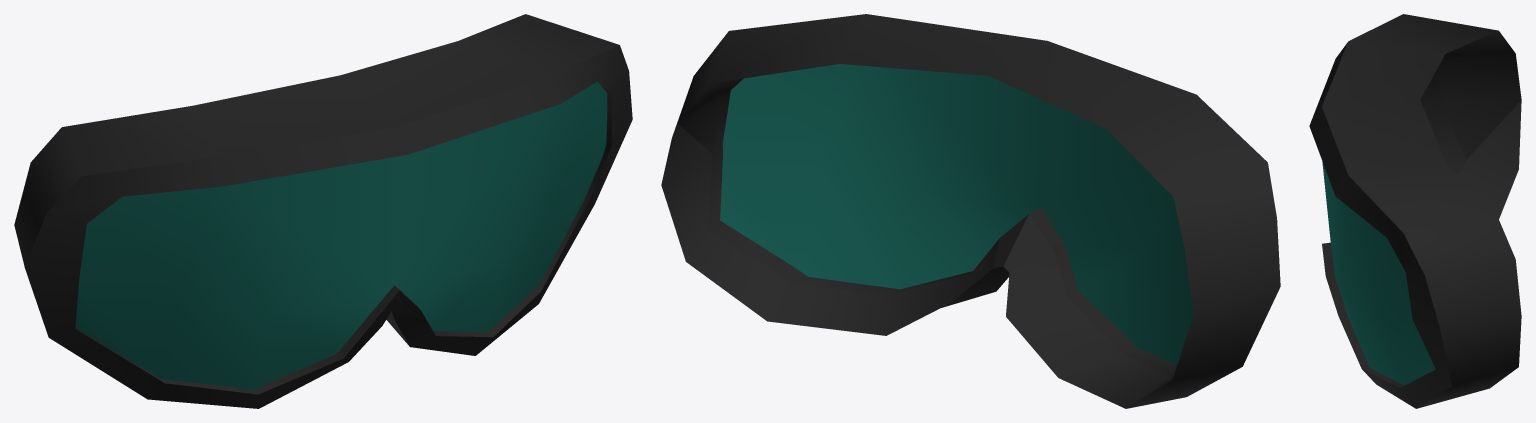
The picture shows the model from 3 angles, left to right: view 1: azimuth 30°, elevation 25°; view 2: azimuth 150°, elevation 25°; view 3: azimuth 270°, elevation 25°; orthographic projection. The views are drawn at different scales.
Parts seen in each view (by area): view 1: glass_ski; view 2: glass_ski; view 3: glass_ski.
Boxes of the visible parts, x1,y1,x2,y2 form: glass_ski: [14, 14, 632, 408]; glass_ski: [661, 14, 1280, 408]; glass_ski: [1309, 14, 1521, 408].
Size of the model in its own units: 0.6149 by 0.2784 by 0.2229.
